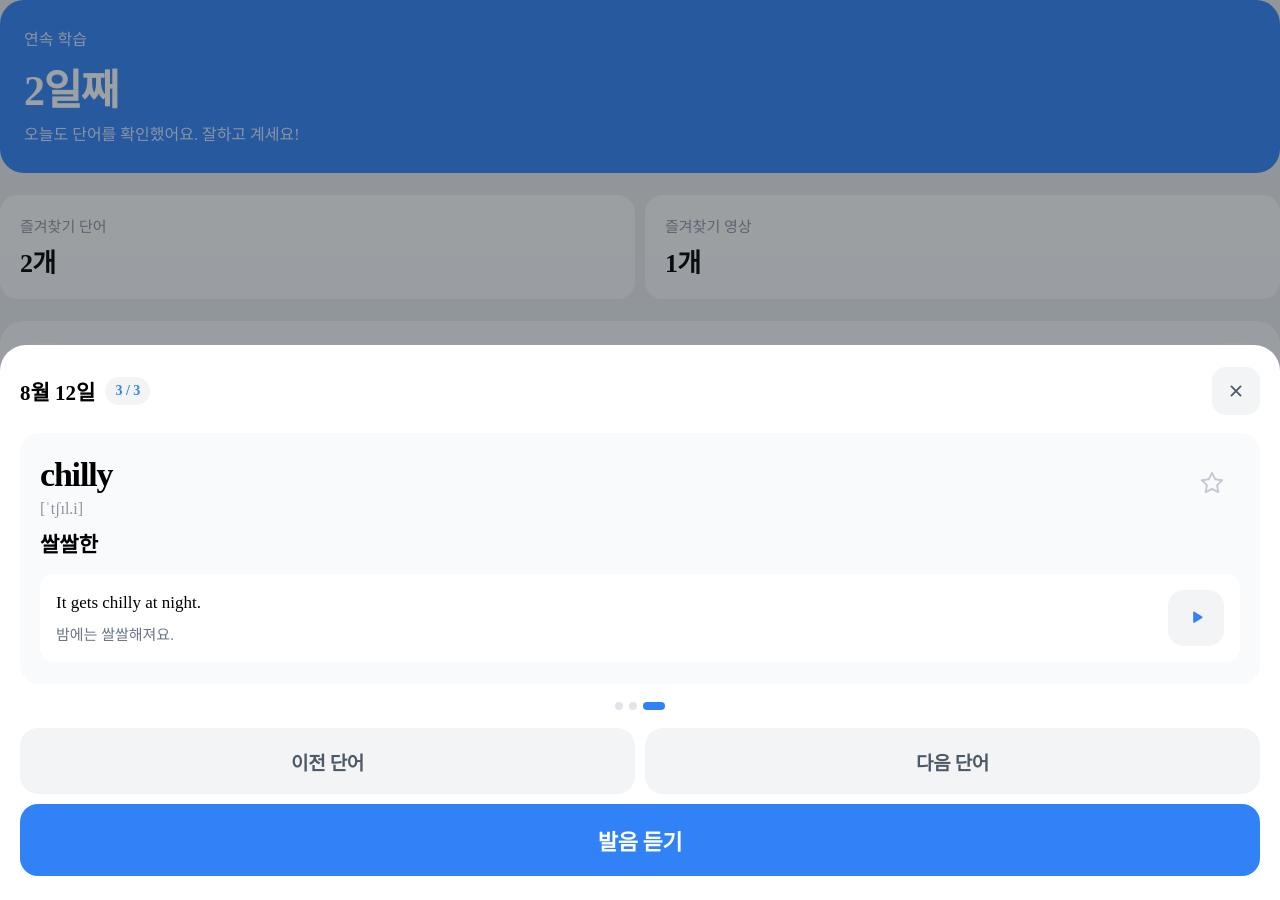
Test case: 마이페이지 › 시트에서 다음 단어를 누르면 3개 안에서 순환한다
The width and height of the screenshot is (1280, 900).
Check: the text "3 / 3" is shown, box x1=105 y1=377 x2=150 y2=405
Click the button "다음 단어" at (952, 761), box x1=645 y1=728 x2=1260 y2=794
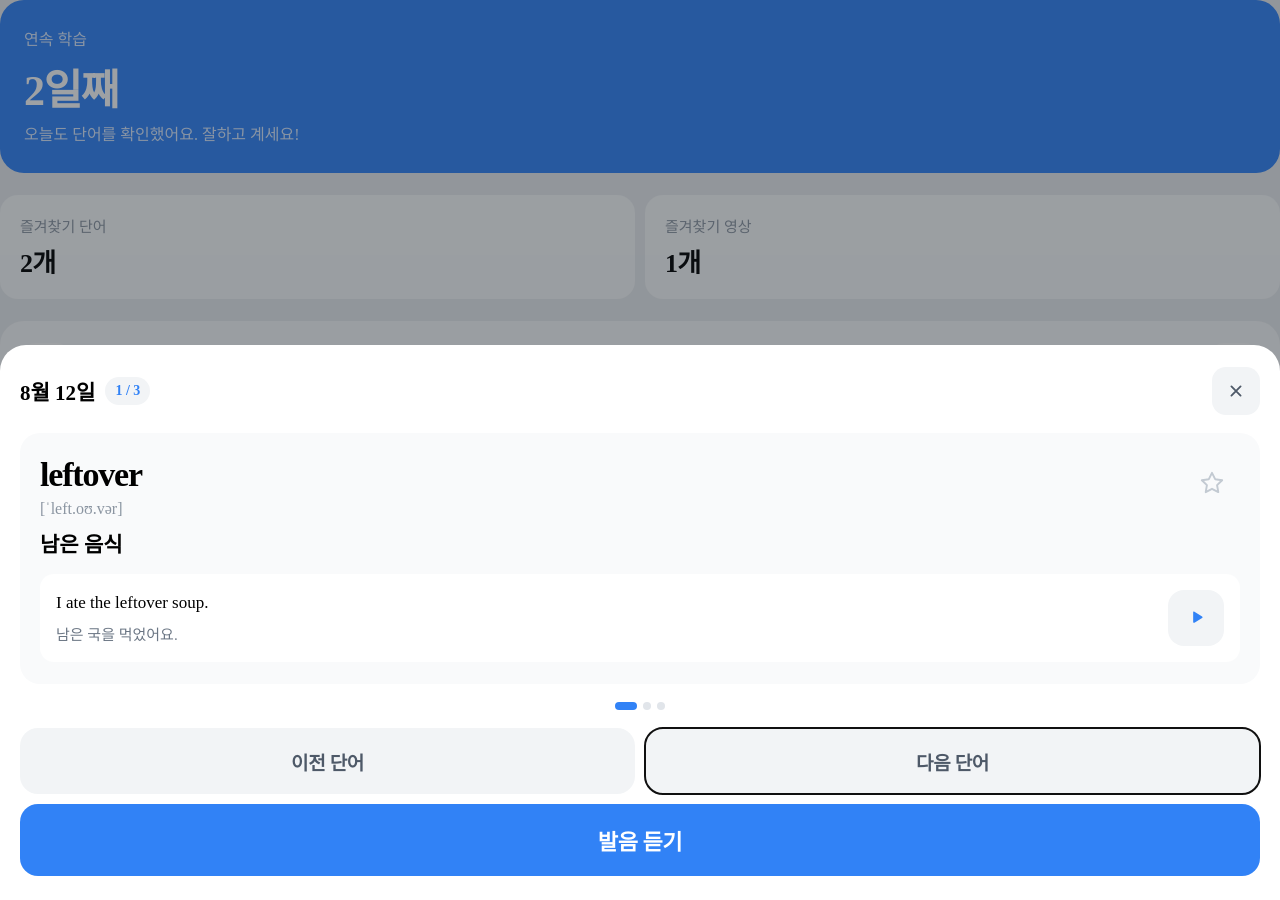
Check: the text "1 / 3" is shown, box x1=105 y1=377 x2=150 y2=405
